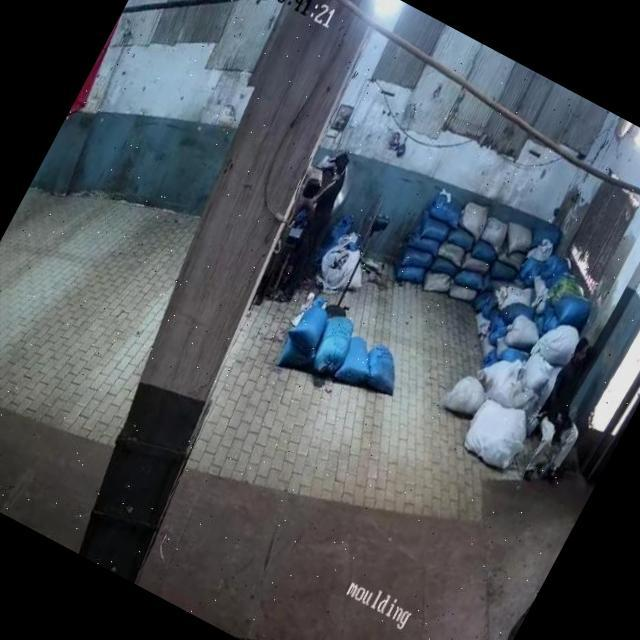person: (266, 152, 368, 304), (515, 339, 620, 482)
